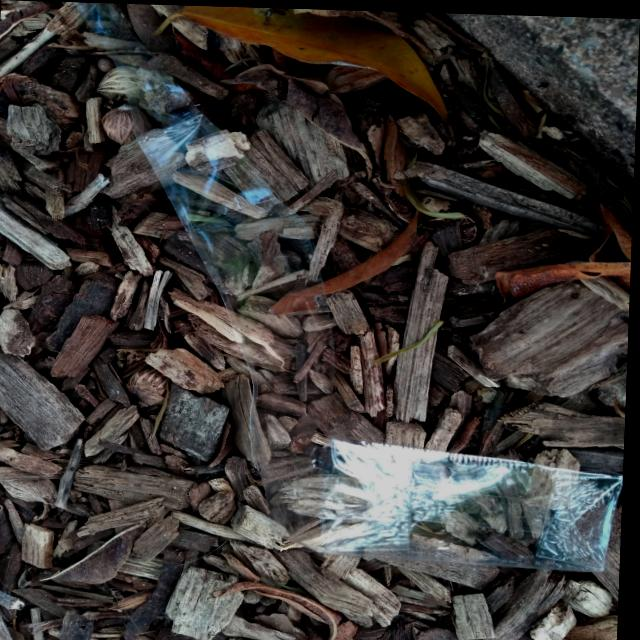Plastic: (40, 1, 352, 458), (242, 415, 628, 589)
